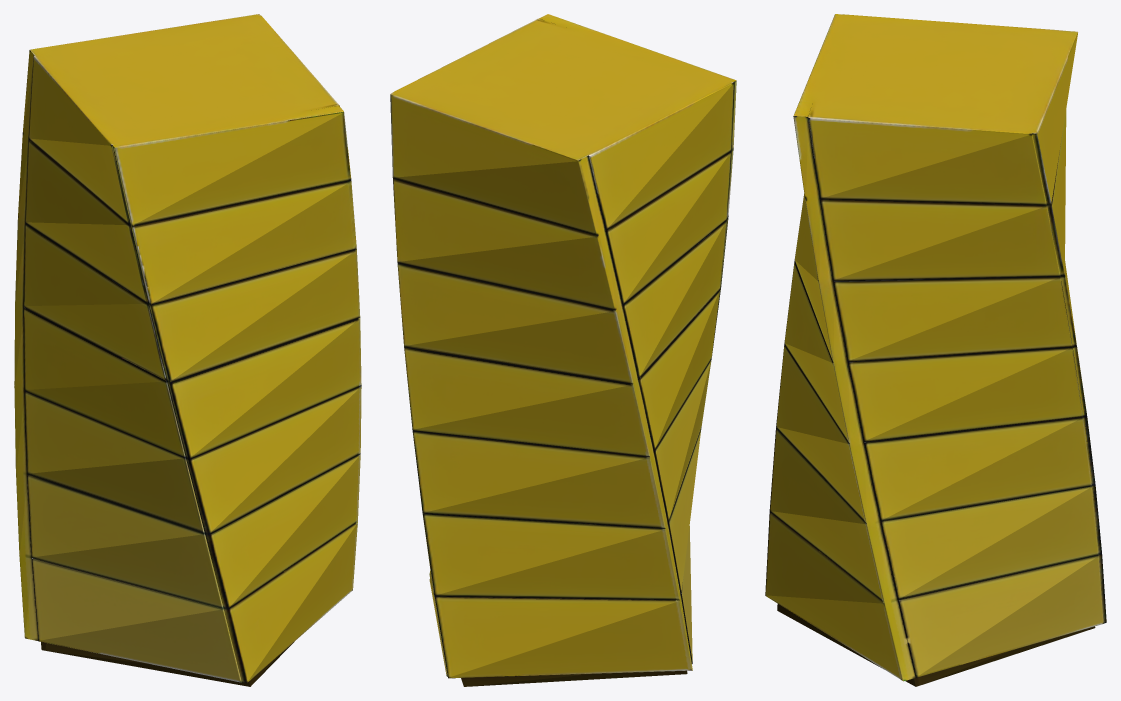
Rendered from edited_mesh.glb.
3 renders of one model, left to right at view 1: azimuth 30°, elevation 25°; view 2: azimuth 150°, elevation 25°; view 3: azimuth 270°, elevation 25°, orthographic.
Parts seen in each view (by area): view 1: normalized_model.obj; view 2: normalized_model.obj; view 3: normalized_model.obj.
Boxes of the visible parts, x1,y1,x2,y2 form: normalized_model.obj: (14,14,361,686); normalized_model.obj: (390,14,736,686); normalized_model.obj: (765,14,1106,686).
Bounding box in the file's own units: 0.8834 × 1.56 × 0.8848.
1 material, 1 textured.
